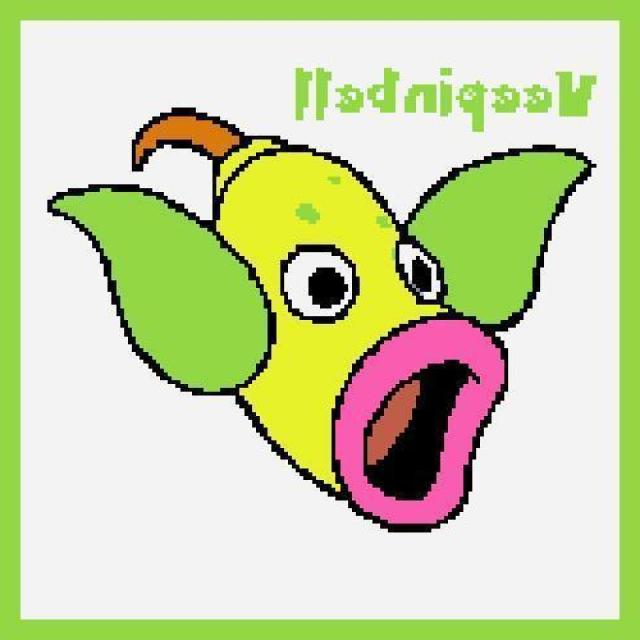Weepinbell: (197, 133, 518, 530)
